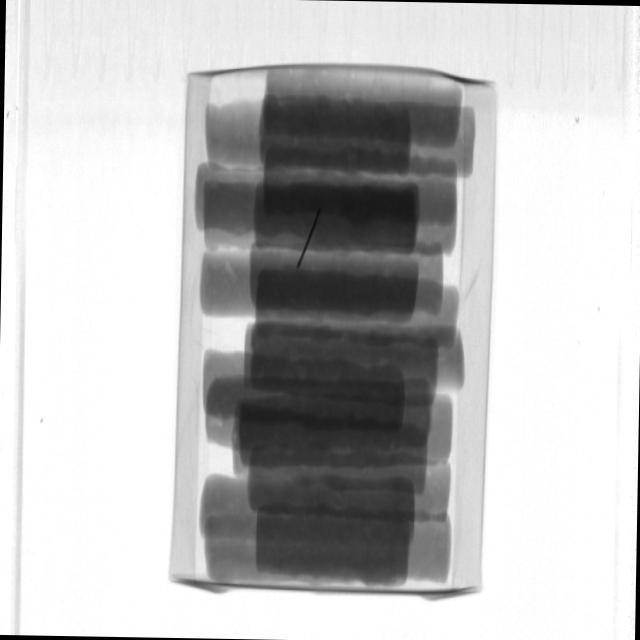ym: (296, 210, 322, 270)
